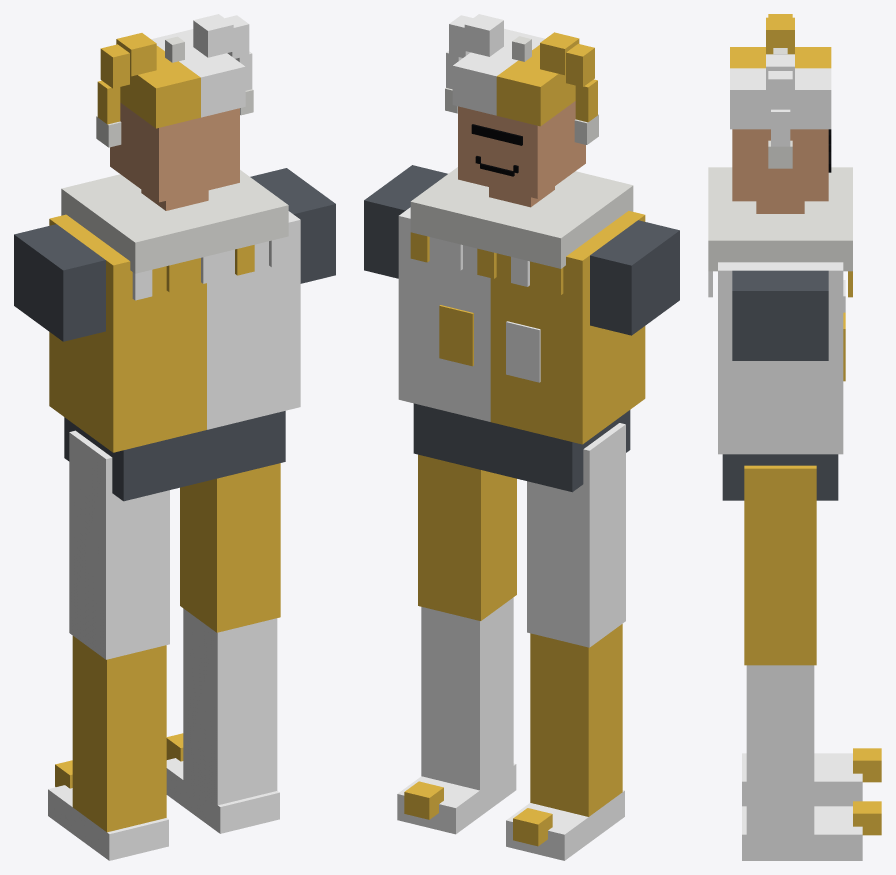
File: JESTER.gltf
3 renders of one model, left to right at view 1: azimuth 30°, elevation 25°; view 2: azimuth 150°, elevation 25°; view 3: azimuth 270°, elevation 25°, orthographic. The views are drawn at different scales.
Visible parts, largest first — view 1: JESTER; view 2: JESTER; view 3: JESTER.
Part boxes in pixels (x1,y1,x2,y2): JESTER: [14, 14, 335, 860]; JESTER: [364, 14, 679, 860]; JESTER: [708, 14, 881, 860].
Bounding box in the file's own units: 0.64 × 1.78 × 0.36.
